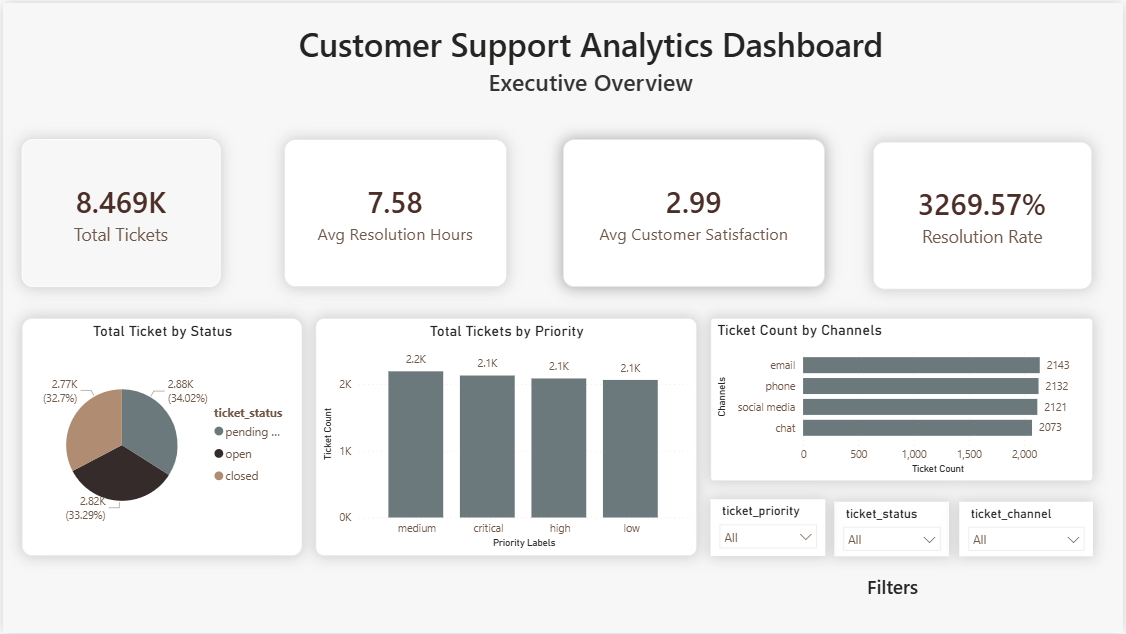

This screenshot's page, from the dashboard's own definition file:
{"tool":"powerbi","page":{"name":"Executive Overview","canvas":[1280,720],"ordinal":0},"visuals":[{"type":"cardVisual","fields":{"Data":["CountNonNull(warehouse fact_support_tickets.ticket_id)"]},"box":[21.7,155.6,227.4,169.2],"z":0},{"type":"cardVisual","fields":{"Data":["Avg(warehouse fact_support_tickets.resolution_hours)"]},"box":[320.7,155.6,254.4,169.2],"z":1000},{"type":"cardVisual","fields":{"Data":["Avg(warehouse fact_support_tickets.customer_satisfaction_rating)"]},"box":[640.1,155.6,299.1,169.2],"z":2000},{"type":"cardVisual","fields":{"Data":["analytics monthly_ticket_trends.Resolution Rate"]},"box":[994.7,158.3,250.4,169.2],"z":3000},{"type":"textbox","box":[263.5,17.8,817.8,138.6],"z":4000},{"type":"pieChart","title":"Total Ticket by Status","fields":{"Category":["warehouse fact_support_tickets.ticket_status"],"Y":["CountNonNull(warehouse fact_support_tickets.ticket_id)"]},"box":[21.7,360,320.7,272],"z":5000},{"type":"clusteredColumnChart","title":"Total Tickets by Priority","fields":{"Category":["warehouse fact_support_tickets.ticket_priority"],"Y":["CountNonNull(warehouse fact_support_tickets.ticket_id)"]},"box":[357.3,360,435.8,272],"z":6000},{"type":"barChart","fields":{"Y":["CountNonNull(warehouse fact_support_tickets.ticket_id)"],"Category":["warehouse fact_support_tickets.ticket_channel"]},"box":[808,360,437.1,186.8],"z":7000},{"type":"slicer","fields":{"Values":["warehouse fact_support_tickets.ticket_status"]},"box":[950.1,569.8,131.3,62.3],"z":8000},{"type":"slicer","fields":{"Values":["warehouse fact_support_tickets.ticket_priority"]},"box":[808,567.1,131.3,65],"z":9000},{"type":"slicer","fields":{"Values":["warehouse fact_support_tickets.ticket_channel"]},"box":[1092.2,569.8,152.9,62.3],"z":10000},{"type":"textbox","box":[927,646.9,178.6,43.3],"z":11000}]}

Visuals, with their boxes in screenshot pixels (x1, y1, x2, y2), scaled from the page's 1280x720 canvas onto the 1126x634 screenshot:
cardVisual - CountNonNull(warehouse fact_support_tickets.ticket_id): pyautogui.locateOnScreen(19, 137, 219, 286)
cardVisual - Avg(warehouse fact_support_tickets.resolution_hours): pyautogui.locateOnScreen(282, 137, 506, 286)
cardVisual - Avg(warehouse fact_support_tickets.customer_satisfaction_rating): pyautogui.locateOnScreen(563, 137, 826, 286)
cardVisual - analytics monthly_ticket_trends.Resolution Rate: pyautogui.locateOnScreen(875, 139, 1095, 288)
textbox: pyautogui.locateOnScreen(232, 16, 951, 138)
"Total Ticket by Status" pieChart: pyautogui.locateOnScreen(19, 317, 301, 557)
"Total Tickets by Priority" clusteredColumnChart: pyautogui.locateOnScreen(314, 317, 698, 557)
barChart - CountNonNull(warehouse fact_support_tickets.ticket_id) x warehouse fact_support_tickets.ticket_channel: pyautogui.locateOnScreen(711, 317, 1095, 481)
slicer - warehouse fact_support_tickets.ticket_status: pyautogui.locateOnScreen(836, 502, 951, 557)
slicer - warehouse fact_support_tickets.ticket_priority: pyautogui.locateOnScreen(711, 499, 826, 557)
slicer - warehouse fact_support_tickets.ticket_channel: pyautogui.locateOnScreen(961, 502, 1095, 557)
textbox: pyautogui.locateOnScreen(815, 570, 973, 608)
